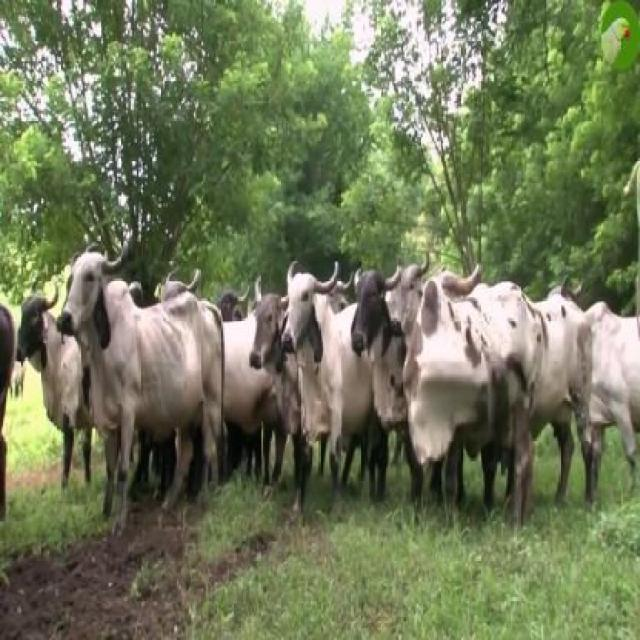Cow: (56, 250, 224, 538), (281, 257, 354, 494), (352, 264, 411, 504)
